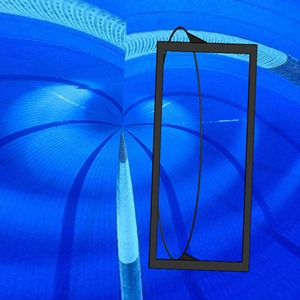circle: (148, 26, 258, 274)
